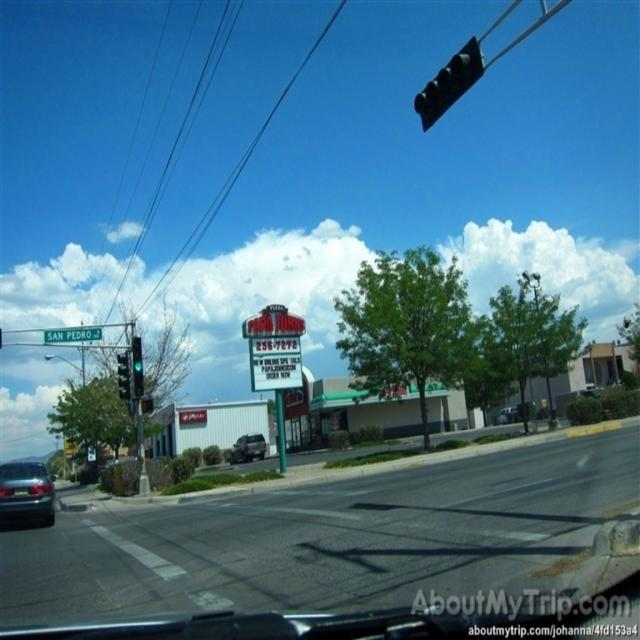off traffic light: (414, 35, 485, 131), (117, 354, 129, 400)
traffic light: (130, 338, 145, 395)
